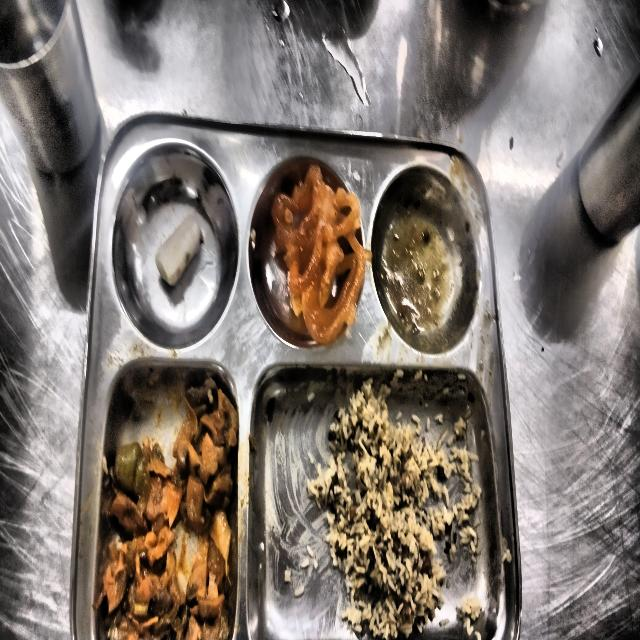Chilli-paneer: (371, 166, 480, 355)
Chutney: (248, 158, 371, 346)
Daal-pulse: (93, 366, 239, 640)
Rajma: (308, 380, 441, 590)
Salad-Chukundar: (112, 155, 238, 335)
